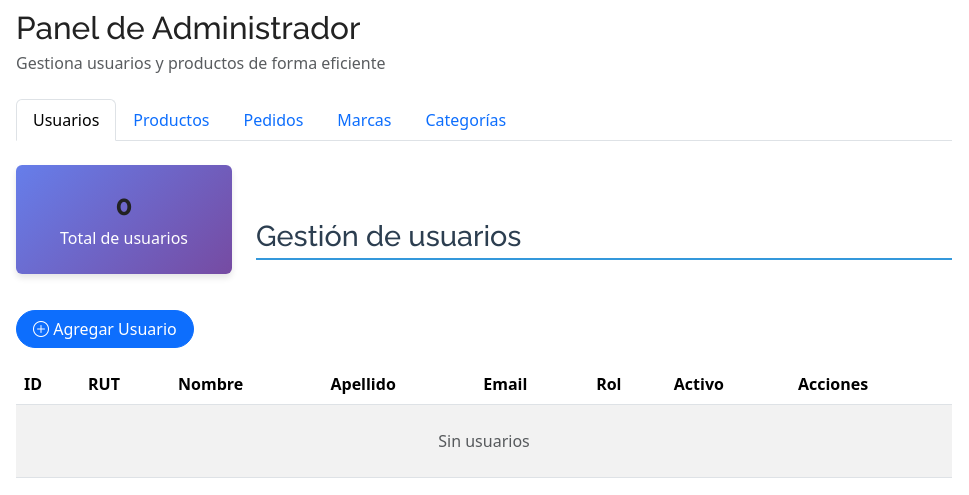
it: Admin - Tabs y estados › muestra estados vacíos Sin usuarios y Sin productos
Expected: the text "Sin usuarios" is shown, left=16, top=405, right=952, bottom=478
Expected: the heading "0" is shown, left=116, top=189, right=132, bottom=221
// Productos vacío
Click the button "Productos" at (171, 120), box left=116, top=99, right=226, bottom=141
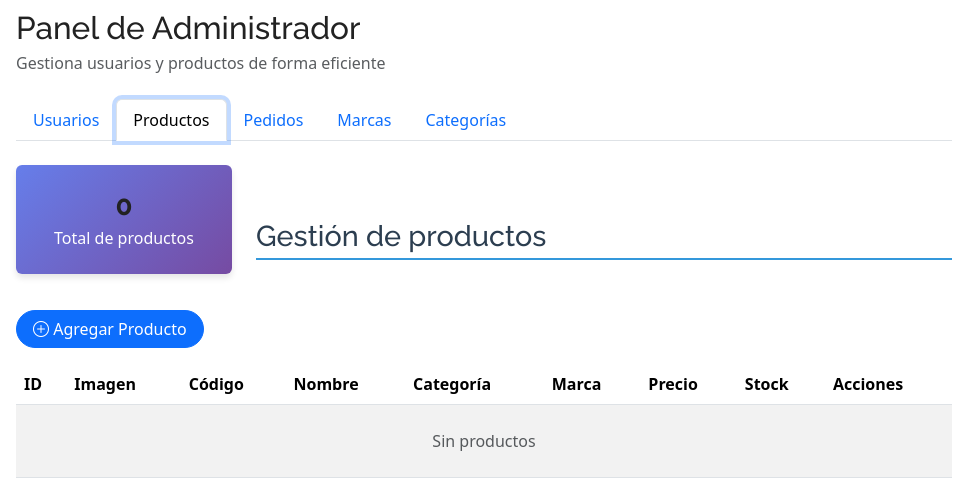
Expected: the heading "0" is shown, left=116, top=189, right=132, bottom=221
Expected: the text "Sin productos" is shown, left=16, top=405, right=952, bottom=478
